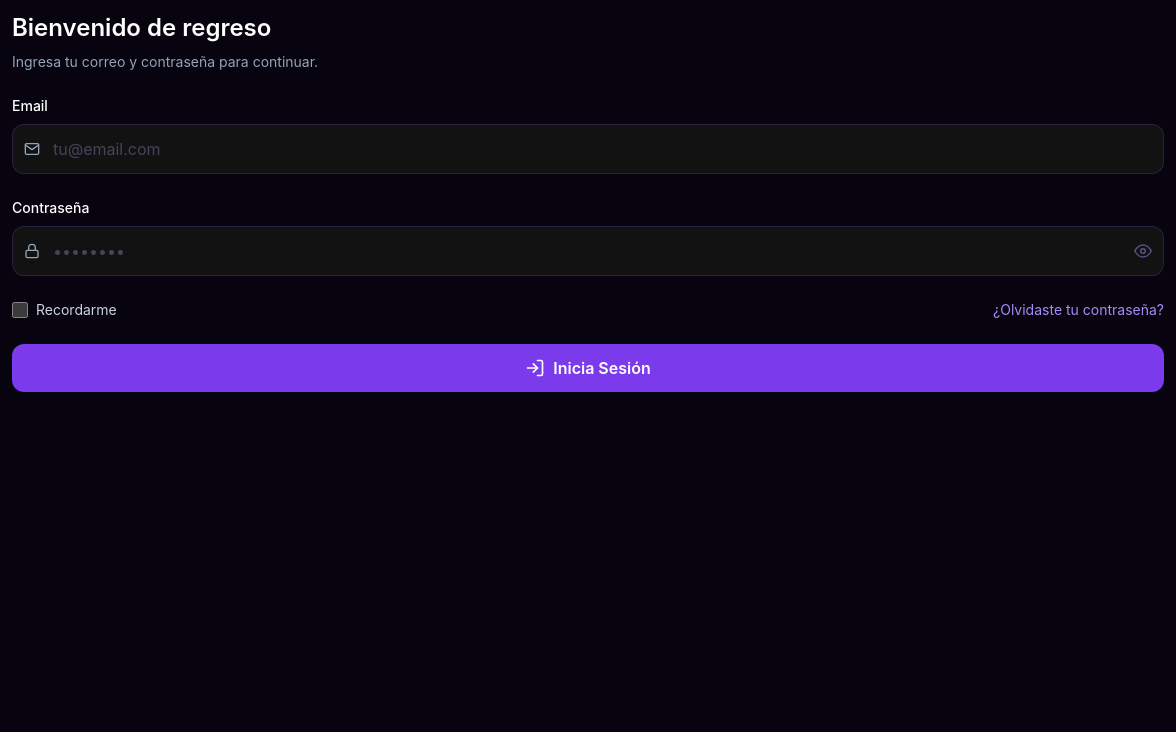
Test: LoginForm › login fallido › muestra el mensaje humanizado cuando login falla por credenciales
Type "user@emeet.com" into the field with placeholder "tu@email.com". click: (588, 149)
box: [12, 124, 1164, 174]
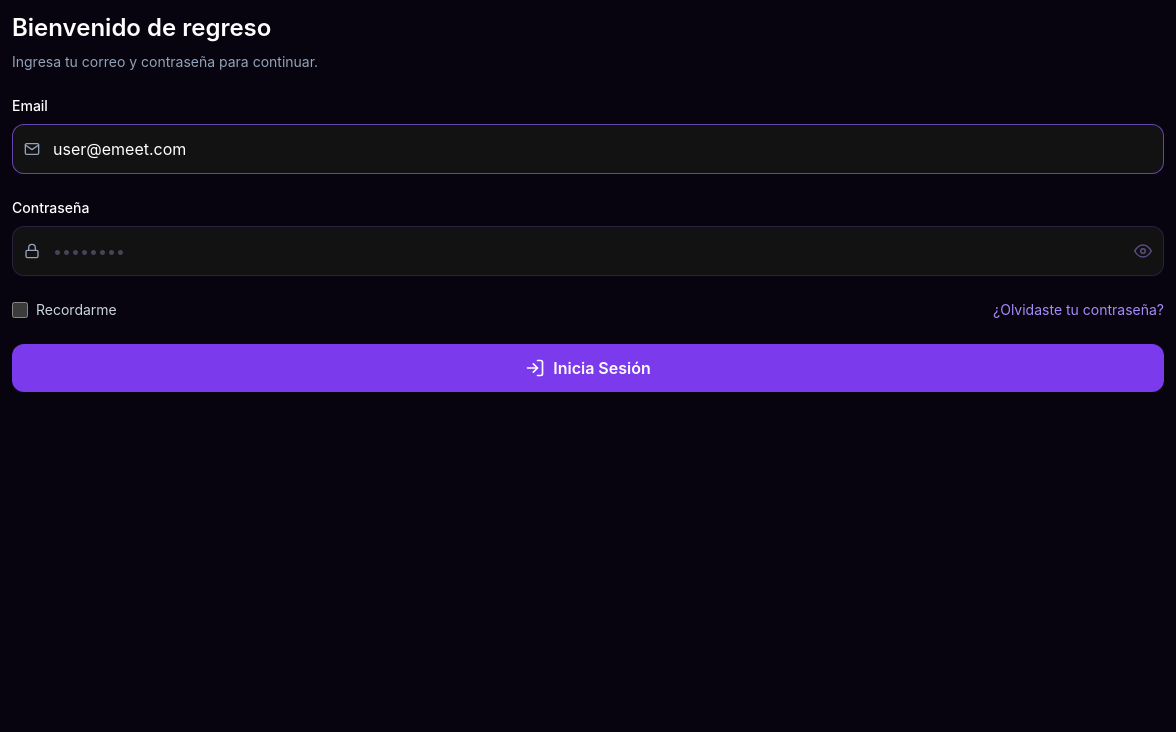
Type "wrongpass" into the password field with placeholder "••••••••". click: (588, 251)
box: [12, 226, 1164, 276]
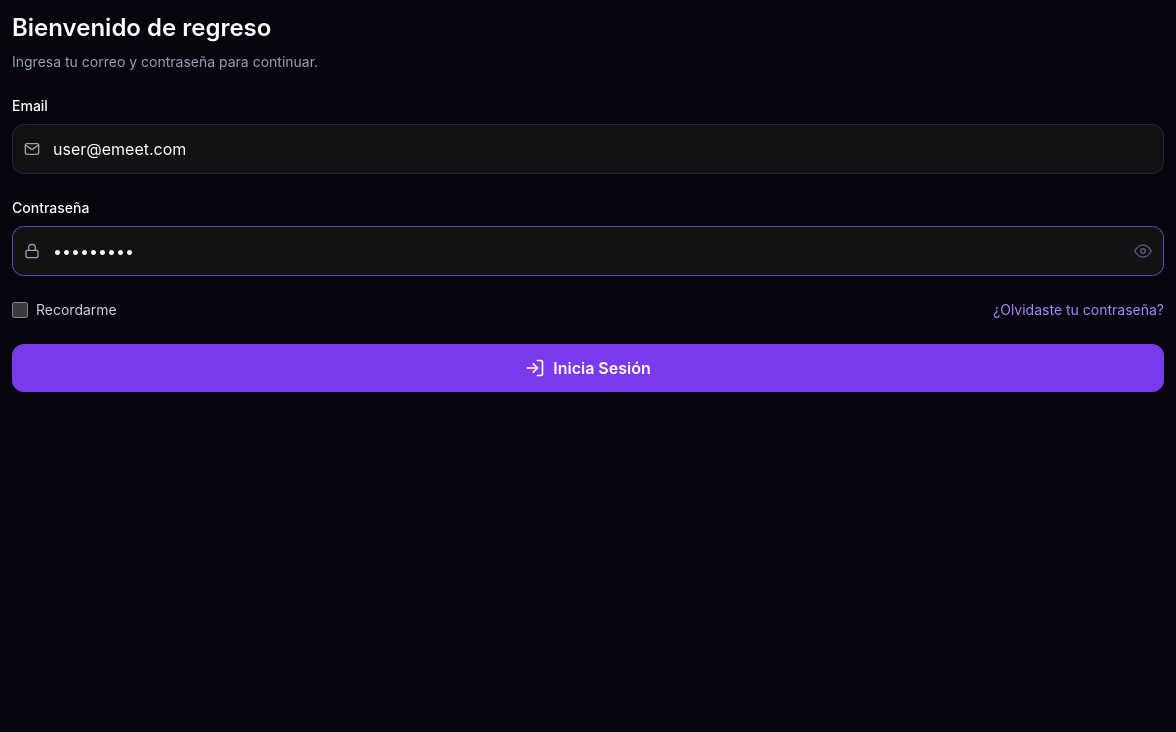
Click the button "Inicia Sesión". click: click(588, 368)
box: [12, 344, 1164, 392]
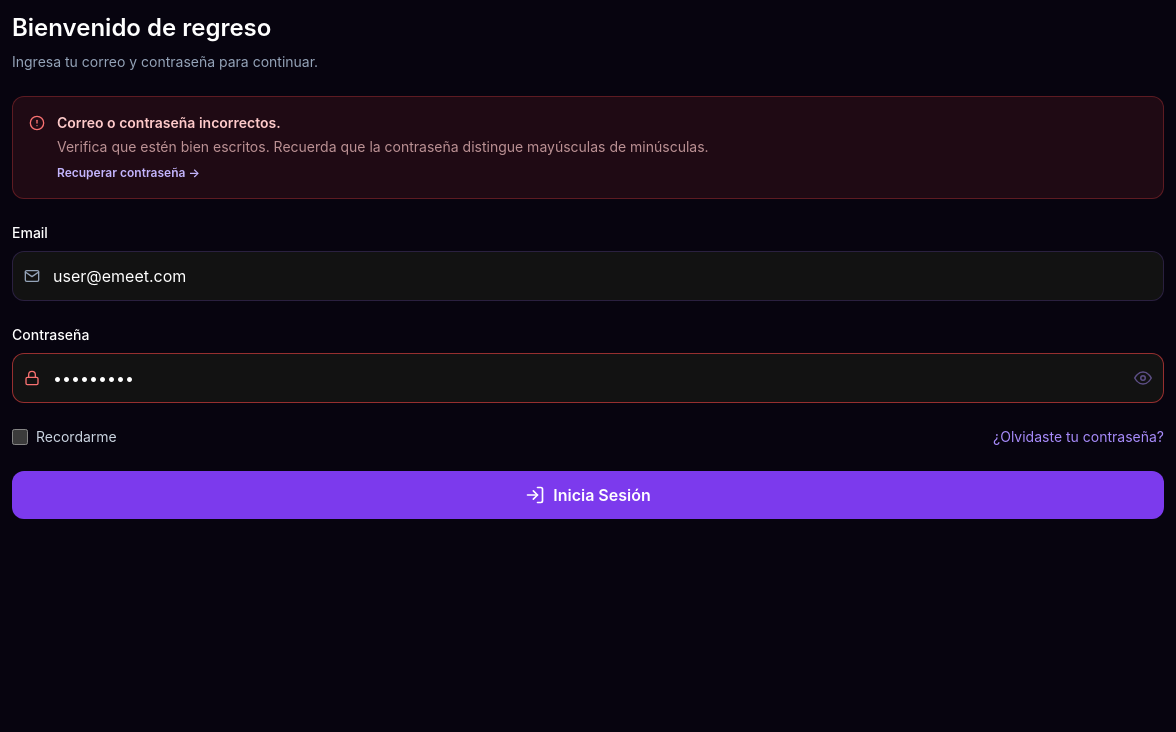
Result: the text "Correo o contraseña incorrectos." is shown at [57, 114, 281, 131]
